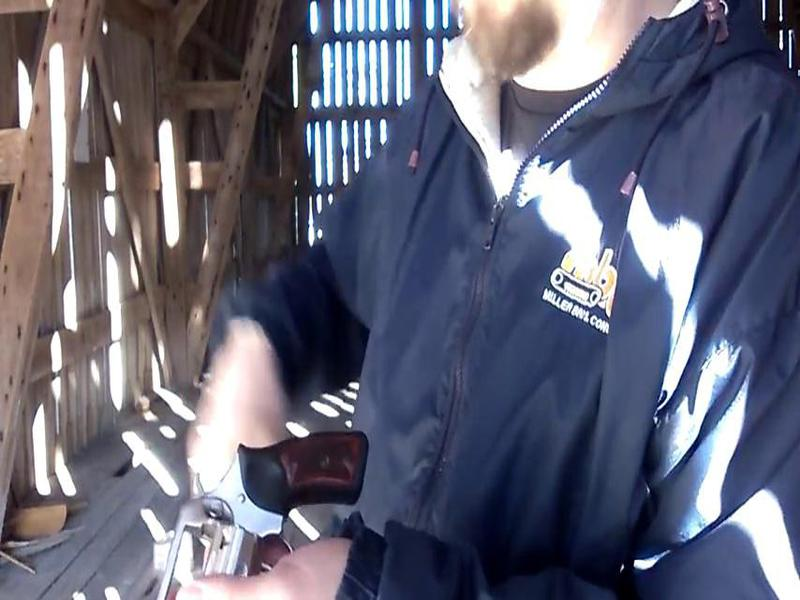Revolver: (133, 416, 373, 600)
